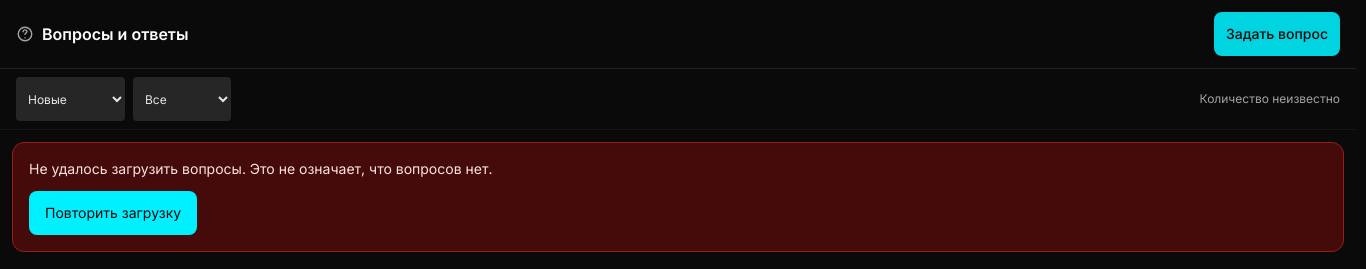
Test: does not claim empty state on HTTP 403 and allows retry
Check: the message is shown, box x1=12 y1=142 x2=1344 y2=252
Check: the text "Пока нет вопросов. Будьте первым!" is not shown
Click the button "Повторить загрузку": (113, 213) x1=29 y1=191 x2=197 y2=235
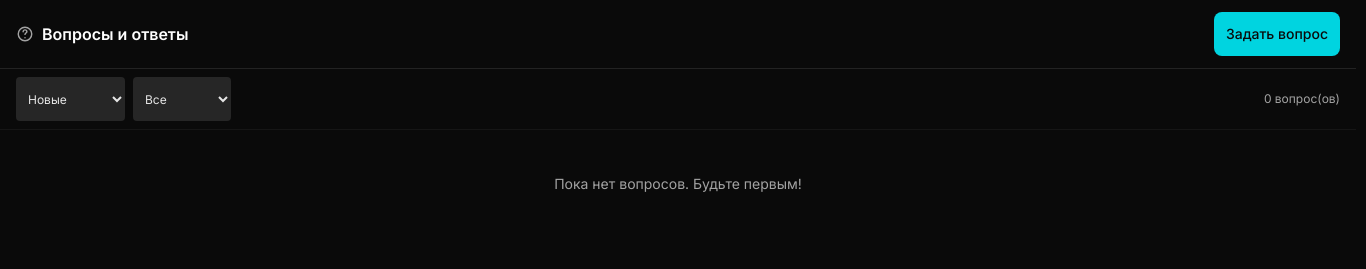
Check: the text "Пока нет вопросов. Будьте первым!" is shown, box x1=554 y1=175 x2=802 y2=192
